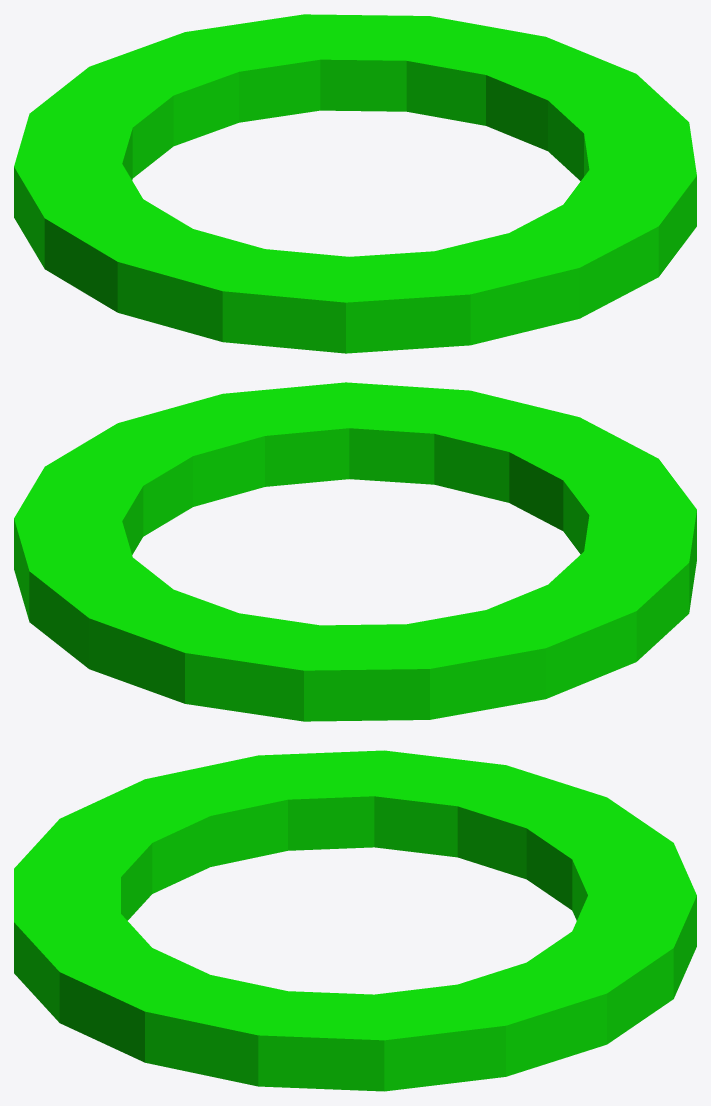
The model's file is friendly-select.glb.
The picture shows the model from 3 angles, top to bottom: view 1: azimuth 30°, elevation 25°; view 2: azimuth 150°, elevation 25°; view 3: azimuth 270°, elevation 25°; orthographic projection.
Parts seen in each view (by area): view 1: tube; view 2: tube; view 3: tube.
Part boxes in pixels (x1,y1,x2,y2): tube: (14,14,696,353); tube: (14,382,696,721); tube: (14,750,696,1091).
Size of the model in its own units: 0.7597 by 0.0625 by 0.7565.
1 material, 1 textured.
